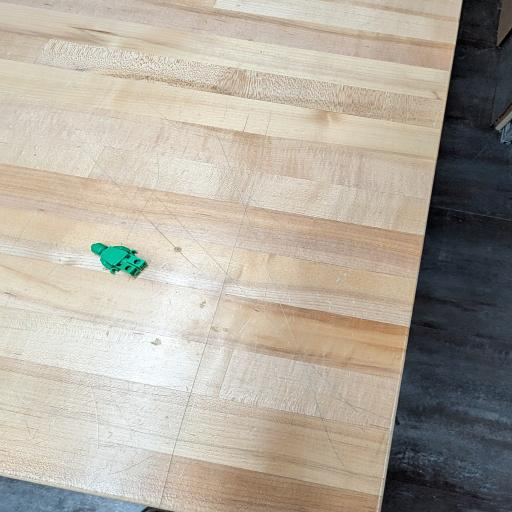Minifig: (91, 243, 147, 276)
